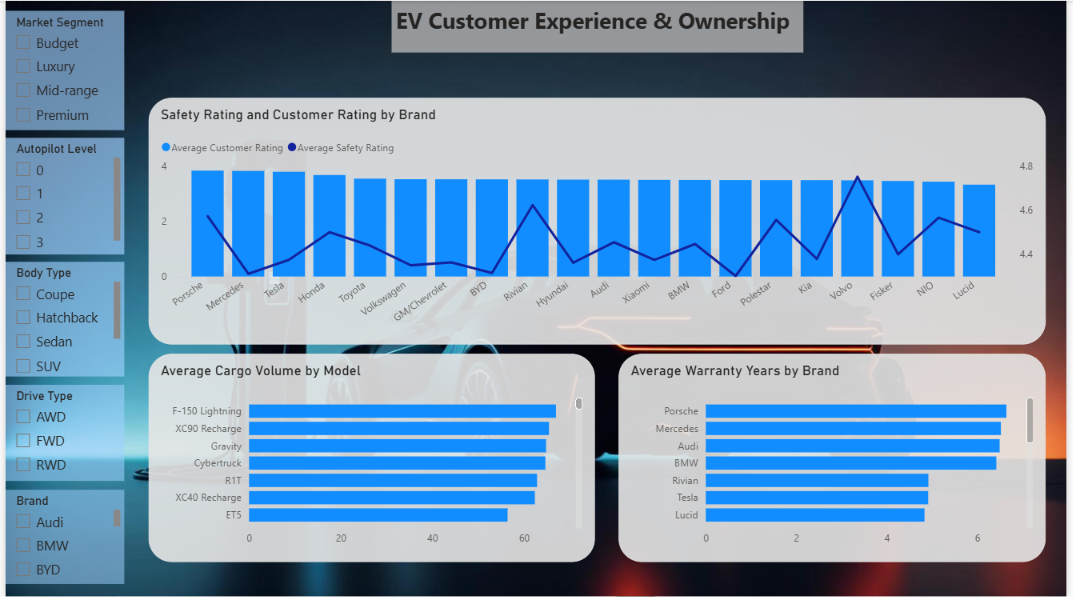

The page's visual inventory and layout, read from the dashboard file:
{"tool":"powerbi","page":{"name":"EV Customer Experience & Ownership","canvas":[1280,720],"ordinal":2},"visuals":[{"type":"lineStackedColumnComboChart","title":"Safety Rating and Customer Rating by Brand","fields":{"Category":["EV Industry Dynamics.Brand"],"Y":["Avg(EV Industry Dynamics.Customer_Rating)"],"Y2":["Avg(EV Industry Dynamics.Safety_Rating)"]},"box":[172.5,117,1082.2,298],"z":0},{"type":"slicer","fields":{"Values":["EV Industry Dynamics.Body_Type"]},"box":[0,314.9,143.6,138.7],"z":1000},{"type":"slicer","fields":{"Values":["EV Industry Dynamics.Market_Segment"]},"box":[0,12.1,143.1,144.3],"z":2000},{"type":"slicer","fields":{"Values":["EV Industry Dynamics.Drive_Type"]},"box":[0,463.3,143.6,115.8],"z":3000},{"type":"barChart","title":"Average Warranty Years by Brand","fields":{"Y":["Avg(EV Industry Dynamics.Warranty_Years)"],"Category":["EV Industry Dynamics.Brand"]},"box":[739.5,425.9,515.2,250.9],"z":4000},{"type":"slicer","fields":{"Values":["EV Industry Dynamics.Brand"]},"box":[0,589.9,143.6,113.4],"z":5000},{"type":"barChart","title":"Average Cargo Volume by Model","fields":{"Y":["Avg(EV Industry Dynamics.Cargo_Volume_Cubic_Ft)"],"Category":["EV Industry Dynamics.Model"]},"box":[172.5,425.9,538.1,250.9],"z":6000},{"type":"slicer","fields":{"Values":["EV Industry Dynamics.Autopilot_Level"]},"box":[0,165.3,143.6,141.2],"z":7000},{"type":"textbox","box":[465.7,0,497.1,62.7],"z":8000}]}

Visuals, with their boxes in screenshot pixels (x1, y1, x2, y2), scaled from the page's 1280x720 canvas onto the 1073x597 screenshot:
"Safety Rating and Customer Rating by Brand" lineStackedColumnComboChart: 145/97/1052/344
slicer - EV Industry Dynamics.Body_Type: 0/261/120/376
slicer - EV Industry Dynamics.Market_Segment: 0/10/120/130
slicer - EV Industry Dynamics.Drive_Type: 0/384/120/480
"Average Warranty Years by Brand" barChart: 620/353/1052/561
slicer - EV Industry Dynamics.Brand: 0/489/120/583
"Average Cargo Volume by Model" barChart: 145/353/596/561
slicer - EV Industry Dynamics.Autopilot_Level: 0/137/120/254
textbox: 390/0/807/52
